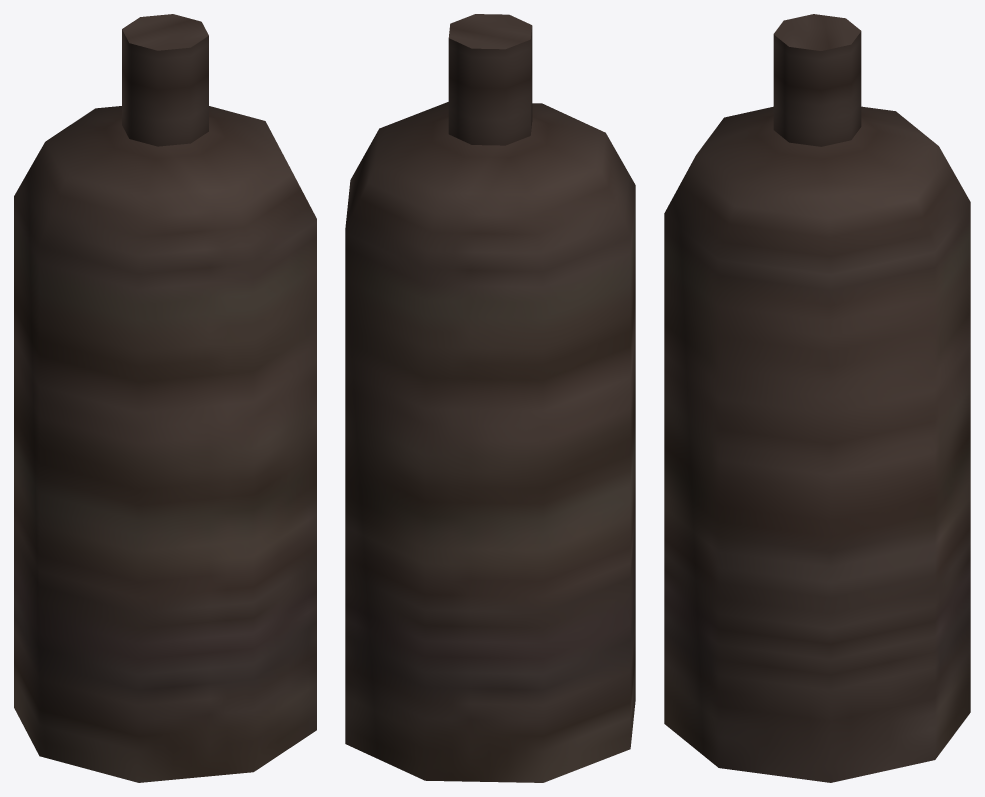
3 renders of one model, left to right at view 1: azimuth 30°, elevation 25°; view 2: azimuth 150°, elevation 25°; view 3: azimuth 270°, elevation 25°, orthographic.
Visible parts, largest first — view 1: Shampoo001_Hygiene_0; view 2: Shampoo001_Hygiene_0; view 3: Shampoo001_Hygiene_0.
Part boxes in pixels (box(x1,y1,x2,y2)): Shampoo001_Hygiene_0: box(14, 14, 316, 782); Shampoo001_Hygiene_0: box(345, 14, 635, 782); Shampoo001_Hygiene_0: box(664, 14, 970, 782).
Size of the model in its own units: 0.1119 by 0.2767 by 0.1119.
Materials: 1 (1 with a texture image).
